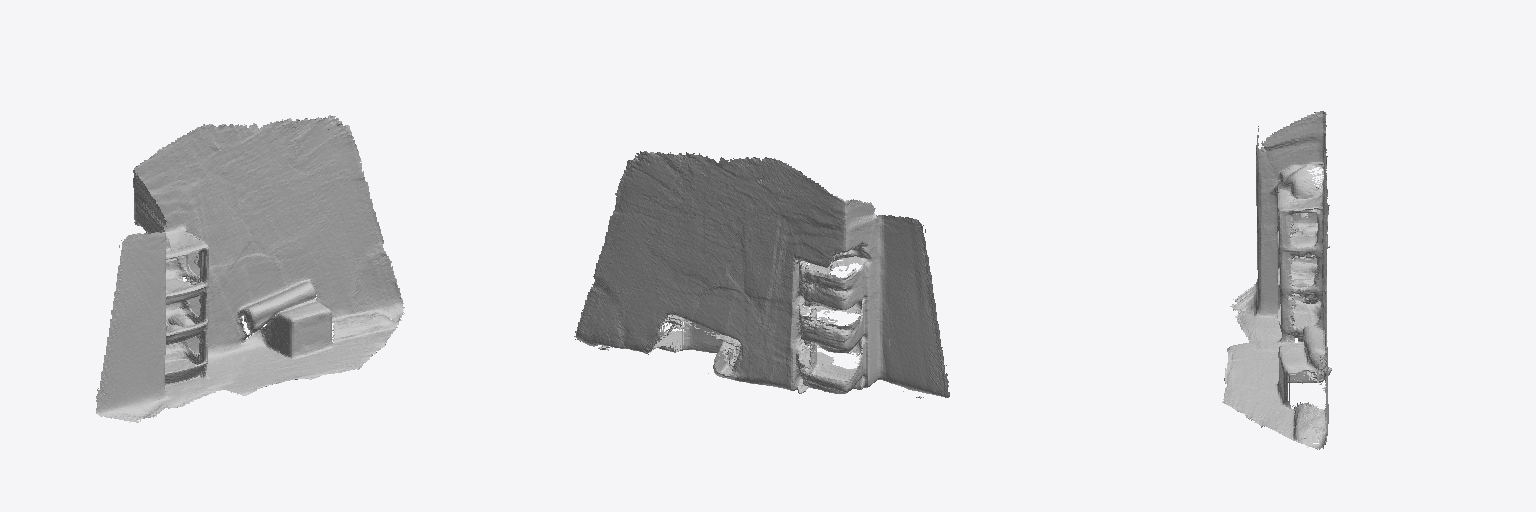
File: export_refined.obj
3 views of the same model, side by side, from view 1: azimuth 30°, elevation 25°; view 2: azimuth 150°, elevation 25°; view 3: azimuth 270°, elevation 25° (orthographic).
Bounding box in the file's own units: 2.94 × 2.01 × 0.864.